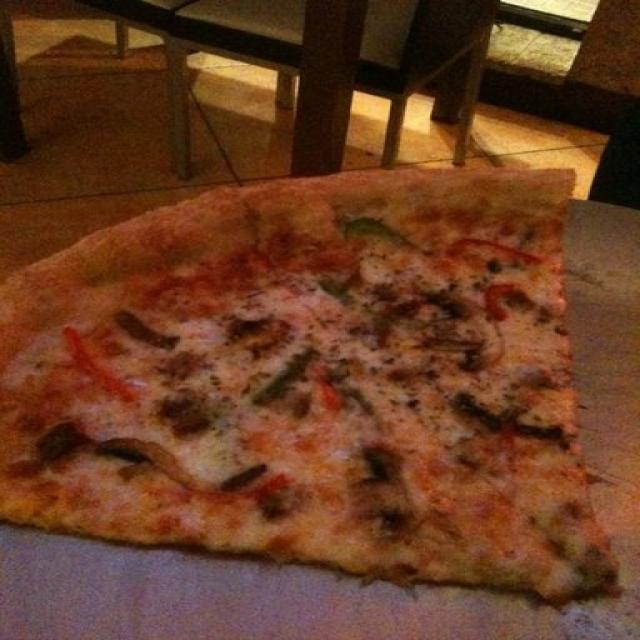Green Pepper: (340, 219, 428, 252), (254, 351, 306, 406)
Mushrooms: (418, 290, 504, 368), (97, 434, 198, 492), (357, 448, 408, 528), (227, 317, 290, 350)
Pizza: (0, 164, 618, 609)
Red Pepper: (60, 328, 138, 402), (448, 232, 544, 266), (484, 275, 515, 321), (316, 381, 346, 415)
